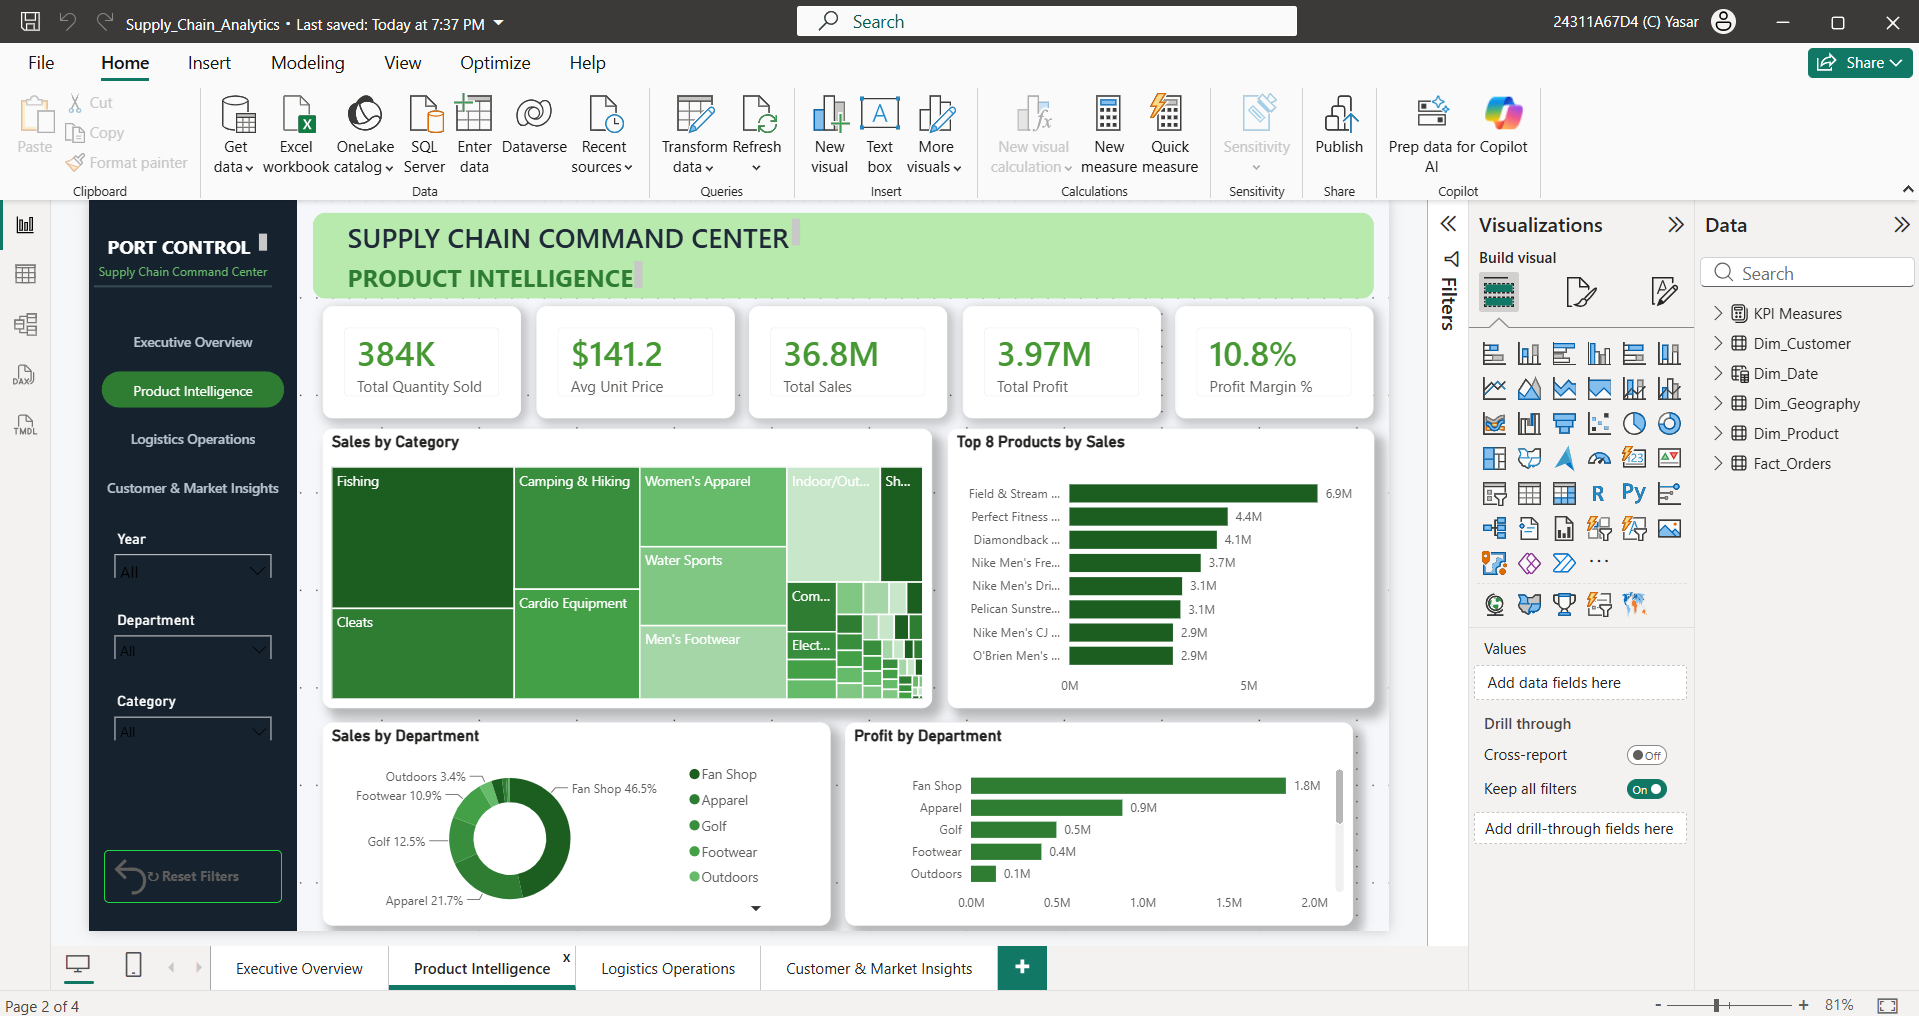

The page's visual inventory and layout, read from the dashboard file:
{"tool":"powerbi","page":{"name":"Product Intelligence","canvas":[1280,720],"ordinal":1},"visuals":[{"type":"shape","box":[0,0,205,720],"z":0},{"type":"textbox","box":[5,28,175,30],"z":1000},{"type":"textbox","box":[0,55,185,28],"z":2000},{"type":"shape","box":[5,78,175,15],"z":3000},{"type":"pageNavigator","box":[12,120,180,180],"z":4000},{"type":"shape","box":[220,12,1045,85],"z":5000},{"type":"textbox","box":[245,13,460,40],"z":6000},{"type":"textbox","box":[245,55,305,39],"z":7000},{"type":"cardVisual","fields":{"Data":["KPI Measures.Total Quantity Sold"]},"box":[230,105,195,110],"z":11000},{"type":"cardVisual","fields":{"Data":["KPI Measures.Profit Margin %"]},"box":[1070,105,195,110],"z":12000},{"type":"cardVisual","fields":{"Data":["KPI Measures.Average Unit Price"]},"box":[440,105,195,110],"z":13000},{"type":"cardVisual","fields":{"Data":["KPI Measures.Total Sales"]},"box":[650,105,195,110],"z":14000},{"type":"cardVisual","fields":{"Data":["KPI Measures.Total Profit"]},"box":[860,105,195,110],"z":15000},{"type":"treemap","title":"Sales by Category","fields":{"Group":["Fact_Orders.Category"],"Values":["KPI Measures.Total Sales"]},"box":[230,225,600,275],"z":16000},{"type":"clusteredBarChart","title":"Top 8 Products by Sales","fields":{"Category":["Fact_Orders.Product"],"Y":["KPI Measures.Total Sales"]},"box":[845,225,420,275],"z":17000},{"type":"donutChart","title":"Sales by Department","fields":{"Category":["Fact_Orders.Department"],"Y":["KPI Measures.Total Sales"]},"box":[230,515,500,200],"z":18000},{"type":"clusteredBarChart","title":"Profit by Department","fields":{"Category":["Fact_Orders.Department"],"Y":["KPI Measures.Total Profit"]},"box":[745,515,500,200],"z":19000},{"type":"slicer","fields":{"Values":["Dim_Date.Year"]},"box":[15,320,175,52],"z":19001},{"type":"slicer","fields":{"Values":["Dim_Product.Department"]},"box":[15,400,175,52],"z":19002},{"type":"slicer","fields":{"Values":["Dim_Product.Category"]},"box":[15,480,175,52],"z":19003},{"type":"actionButton","box":[15,640,175,52],"z":19005}]}

Visuals, with their boxes on the page's 1280x720 design canvas (x1, y1, x2, y2). These are canvas units, not pixel positions in the 1919x1016 screenshot, which may show the page scaled, cropped or inside an application window:
shape: BBox(0, 0, 205, 720)
textbox: BBox(5, 28, 180, 58)
textbox: BBox(0, 55, 185, 83)
shape: BBox(5, 78, 180, 93)
pageNavigator: BBox(12, 120, 192, 300)
shape: BBox(220, 12, 1265, 97)
textbox: BBox(245, 13, 705, 53)
textbox: BBox(245, 55, 550, 94)
cardVisual - KPI Measures.Total Quantity Sold: BBox(230, 105, 425, 215)
cardVisual - KPI Measures.Profit Margin %: BBox(1070, 105, 1265, 215)
cardVisual - KPI Measures.Average Unit Price: BBox(440, 105, 635, 215)
cardVisual - KPI Measures.Total Sales: BBox(650, 105, 845, 215)
cardVisual - KPI Measures.Total Profit: BBox(860, 105, 1055, 215)
"Sales by Category" treemap: BBox(230, 225, 830, 500)
"Top 8 Products by Sales" clusteredBarChart: BBox(845, 225, 1265, 500)
"Sales by Department" donutChart: BBox(230, 515, 730, 715)
"Profit by Department" clusteredBarChart: BBox(745, 515, 1245, 715)
slicer - Dim_Date.Year: BBox(15, 320, 190, 372)
slicer - Dim_Product.Department: BBox(15, 400, 190, 452)
slicer - Dim_Product.Category: BBox(15, 480, 190, 532)
actionButton: BBox(15, 640, 190, 692)
